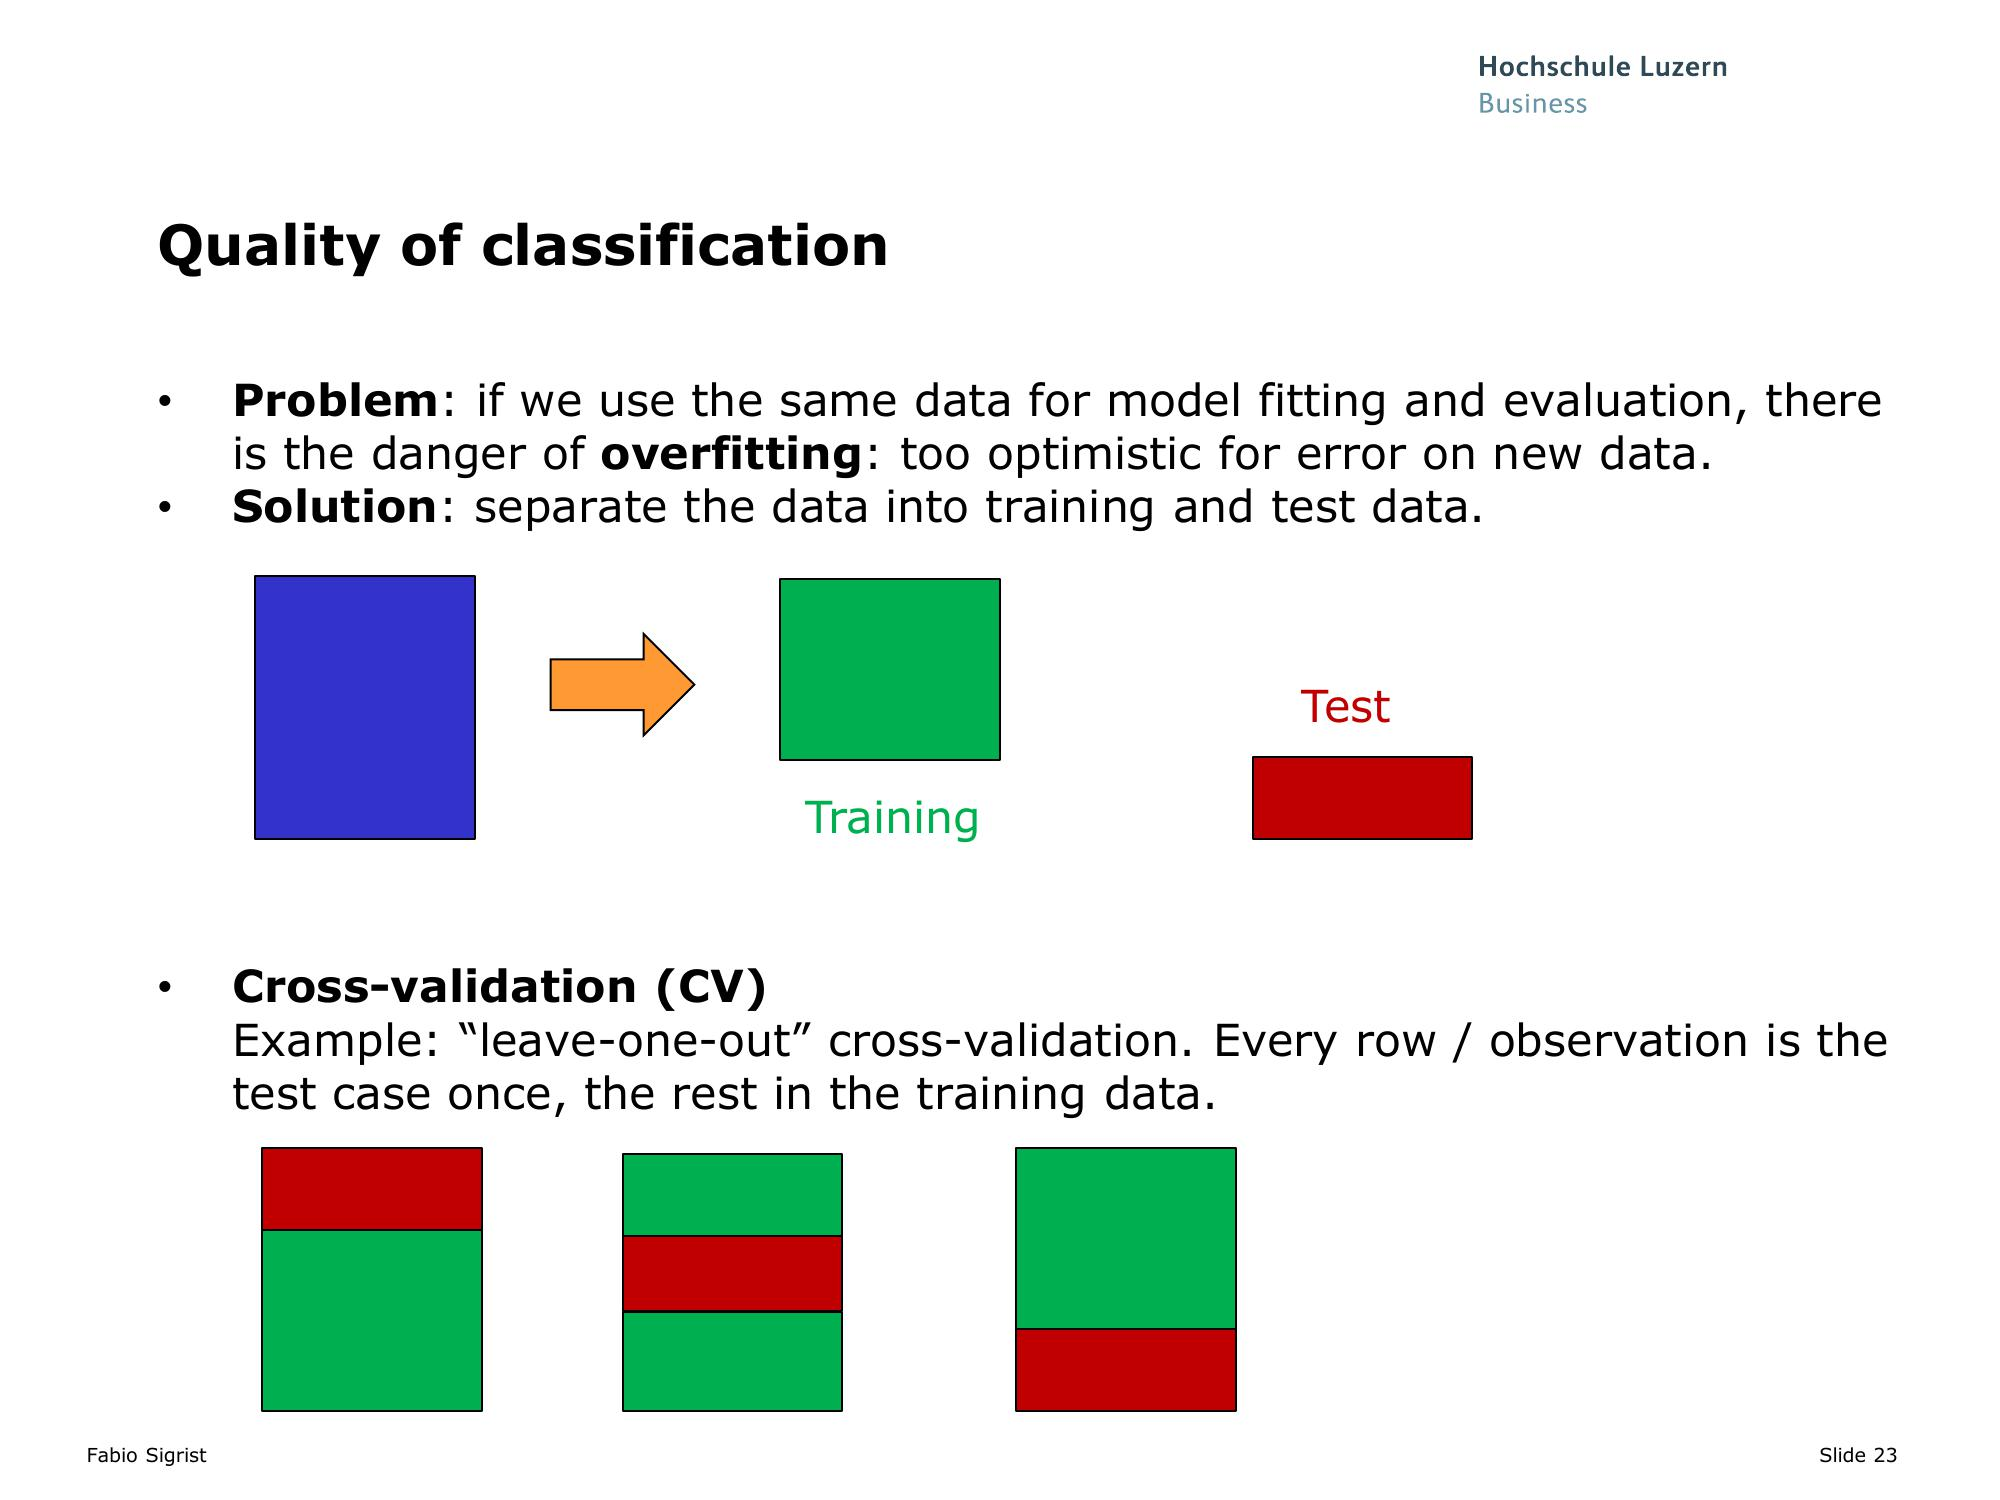Title: (117, 191, 904, 291)
